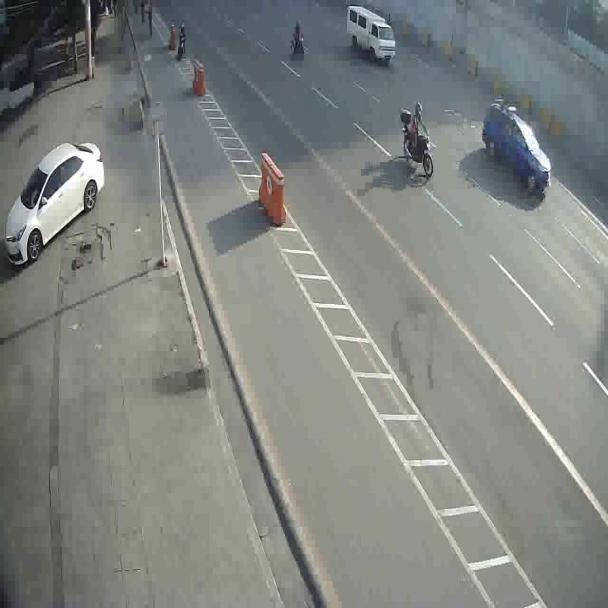motorcyclist: (398, 103, 432, 177), (289, 18, 305, 60)
vehicle: (7, 142, 104, 272), (471, 96, 548, 203), (351, 4, 395, 66)
